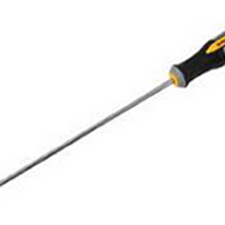screwdriver: (2, 29, 225, 189)
